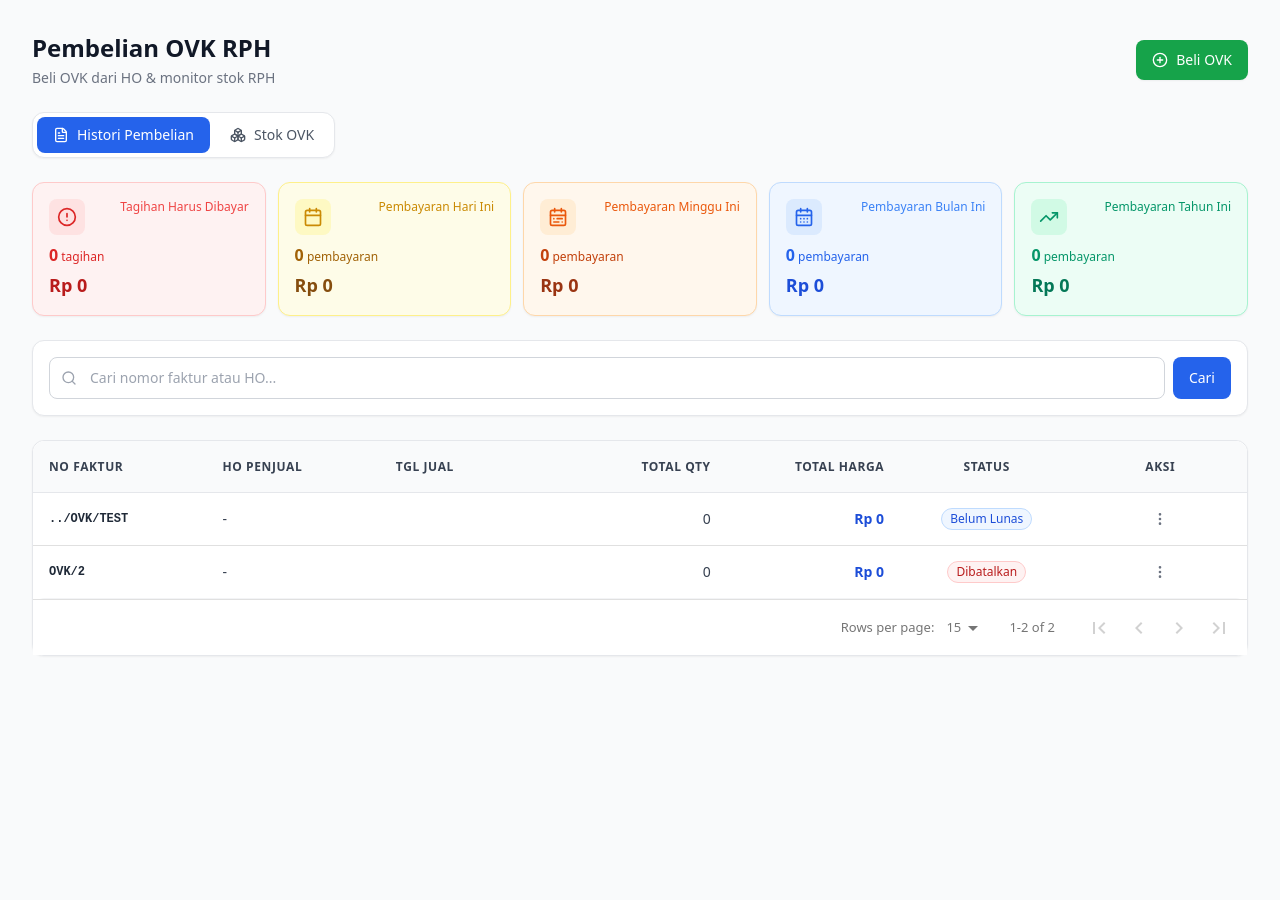
Test: purchase menu retains actions, restores Escape focus, uses purchase PID even when cancelled
The image size is (1280, 900).
Click the button named "Aksi pembelian ../OVK/TEST": (1160, 519) [1146,505,1174,533]
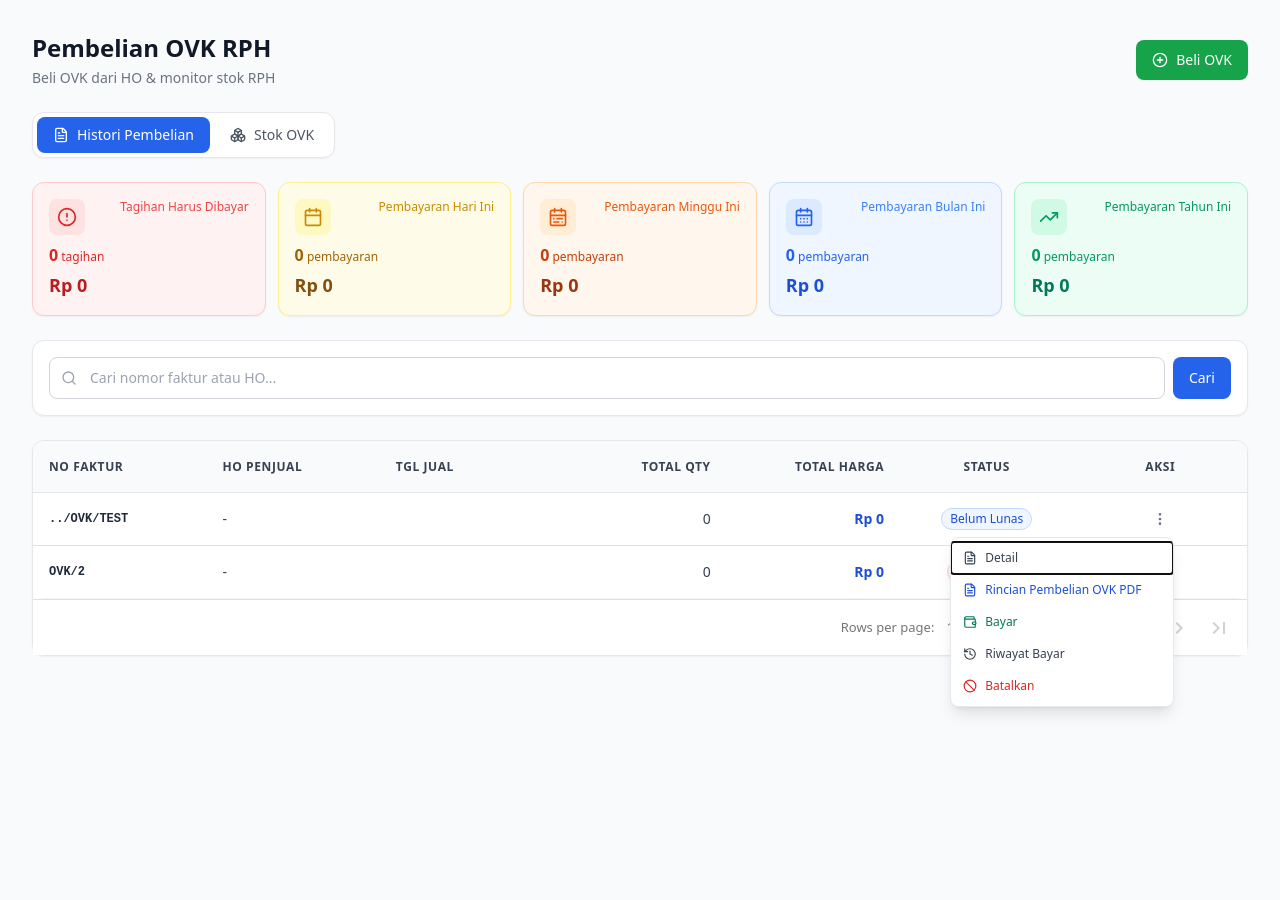
Result: the button "Detail" is shown at [951,542,1173,574]
Result: the button "Bayar" is shown at [951,606,1173,638]
Result: the button "Riwayat Bayar" is shown at [951,638,1173,670]
Click the button "Rincian Pembelian OVK PDF": (1062, 590) [951,574,1173,606]
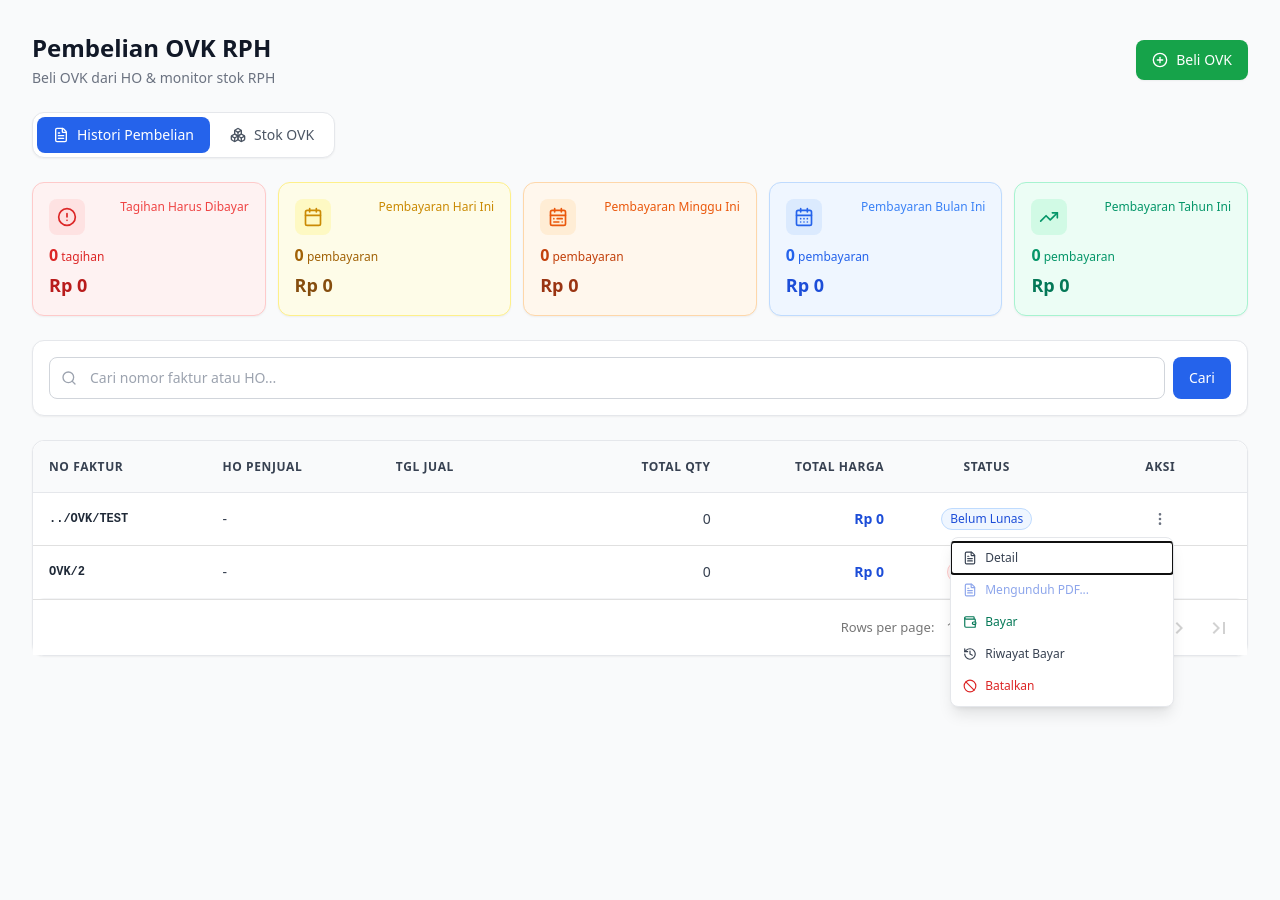
Press Escape
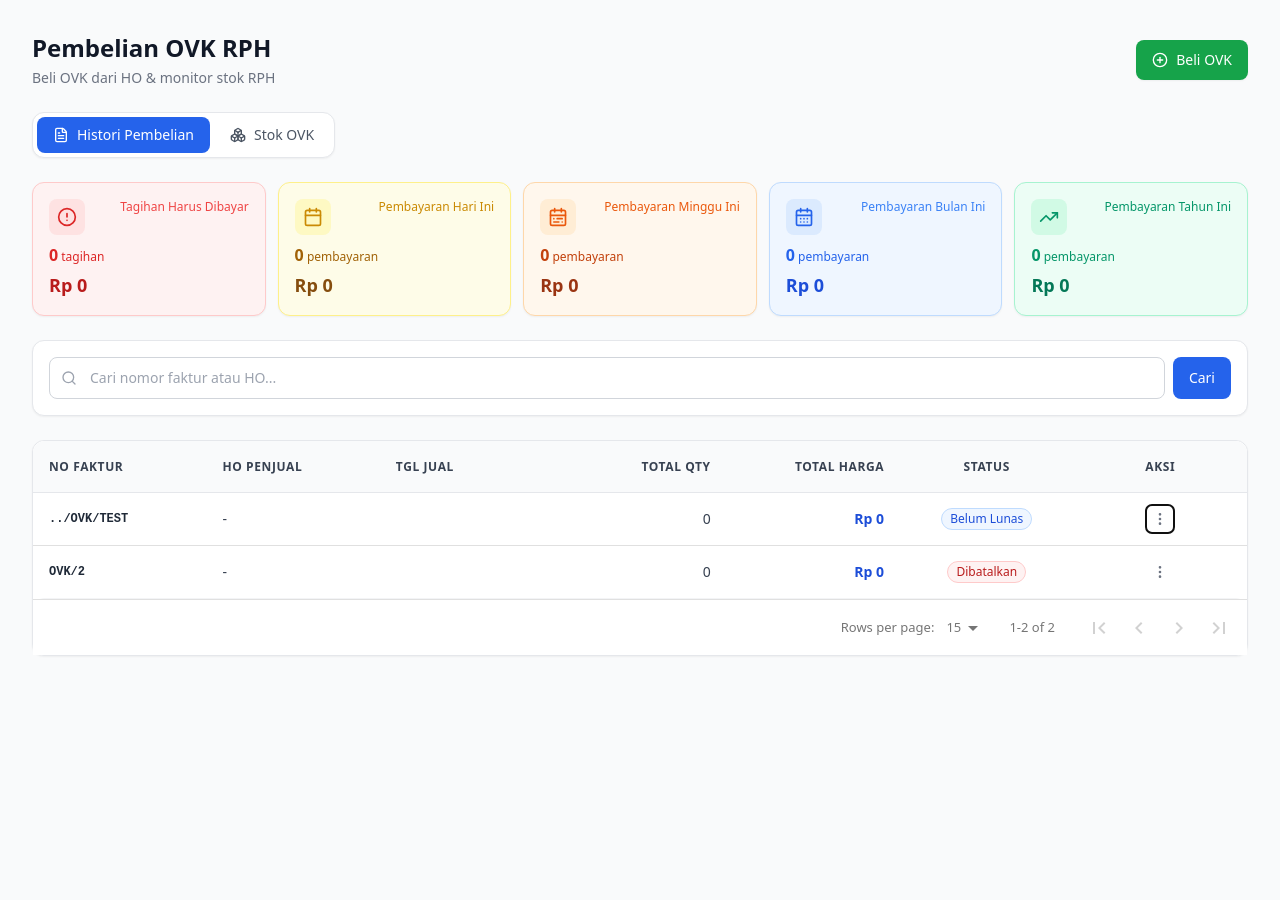
Click the button named "Aksi pembelian OVK/2": (1160, 572) [1146,558,1174,586]
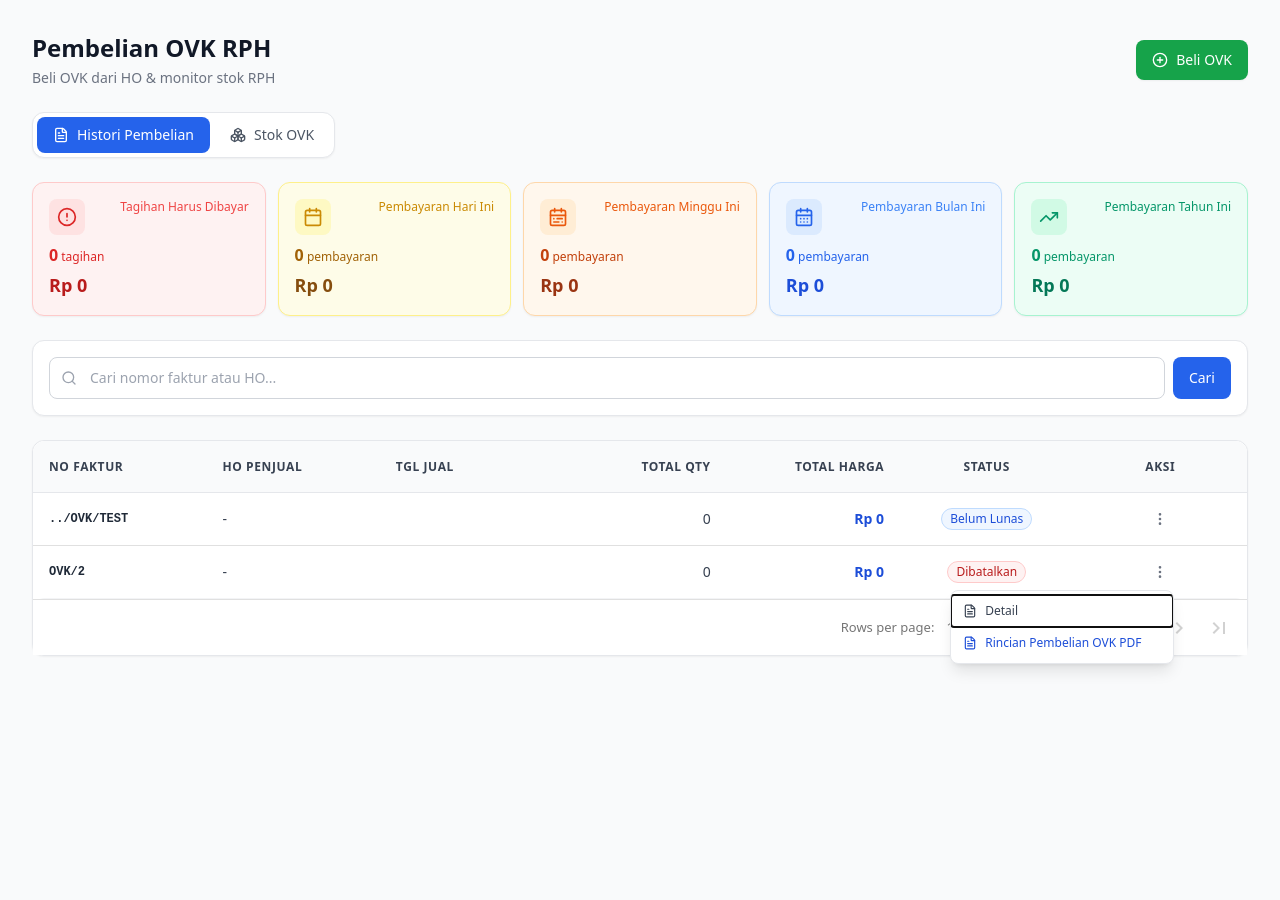
Result: the button "Rincian Pembelian OVK PDF" is shown at [951,627,1173,659]
